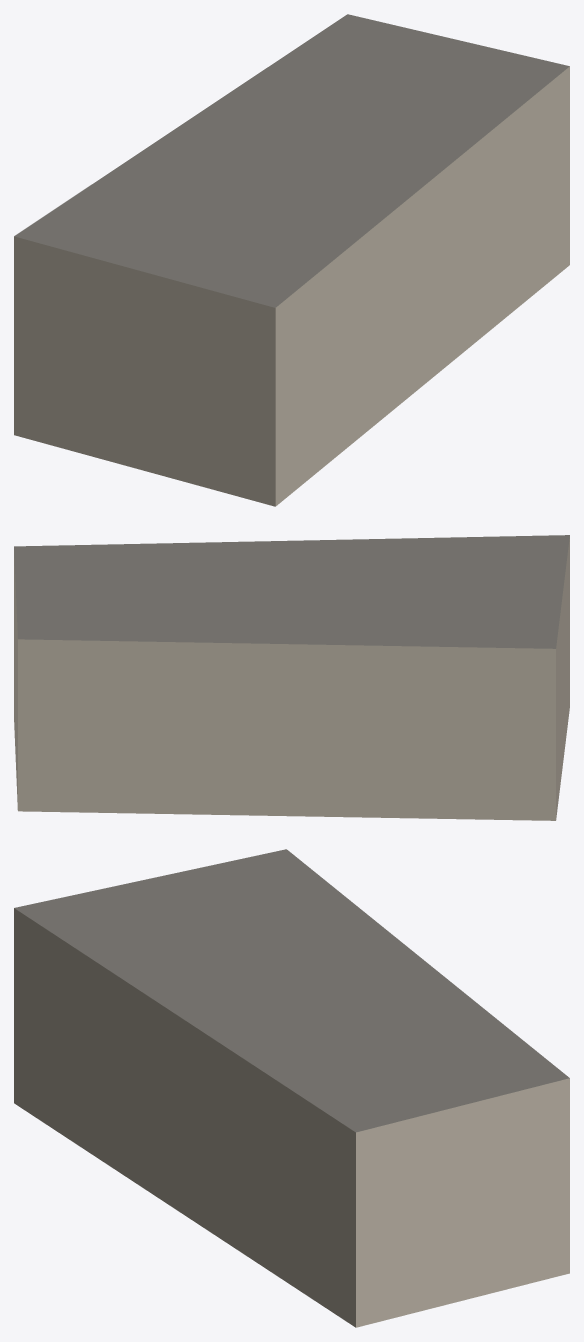
The picture shows the model from 3 angles, top to bottom: view 1: azimuth 30°, elevation 25°; view 2: azimuth 150°, elevation 25°; view 3: azimuth 270°, elevation 25°; orthographic projection. The views are drawn at different scales.
Parts seen in each view (by area): view 1: HP-w505633446; view 2: HP-w505633446; view 3: HP-w505633446.
Part boxes in pixels (x1,y1,x2,y2): HP-w505633446: (14, 14, 569, 506); HP-w505633446: (14, 535, 569, 820); HP-w505633446: (14, 849, 569, 1327).
Size of the model in its own units: 46.68 by 15 by 38.71.
